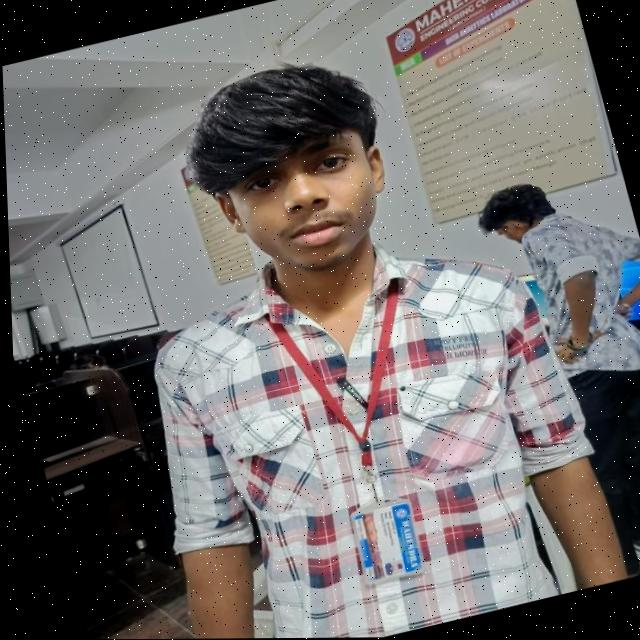id_card: (251, 271, 460, 599)
